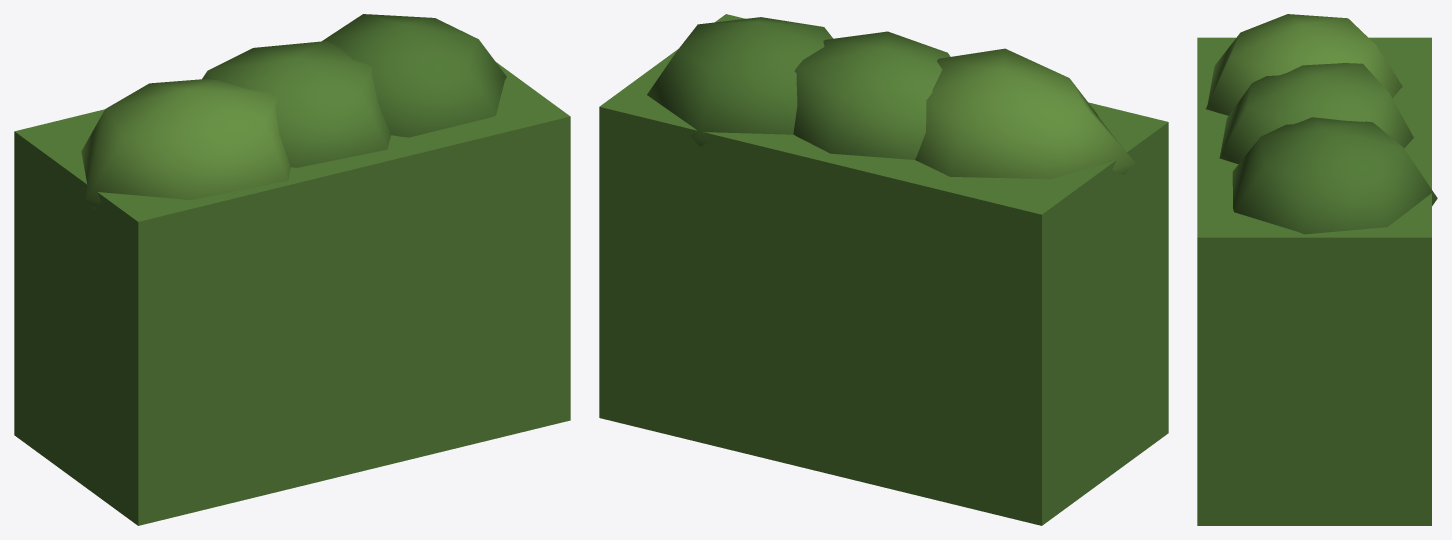
File: hedge.far.glb
3 views of the same model, side by side, from view 1: azimuth 30°, elevation 25°; view 2: azimuth 150°, elevation 25°; view 3: azimuth 270°, elevation 25° (orthographic). The views are drawn at different scales.
Parts seen in each view (by area): view 1: hedge; view 2: hedge; view 3: hedge.
Part boxes in pixels (<box>): hedge: <box>14,14,570,525</box>; hedge: <box>599,14,1168,525</box>; hedge: <box>1197,14,1437,525</box>.
Bounding box in the file's own units: 1.28 × 1.02 × 0.6353.
